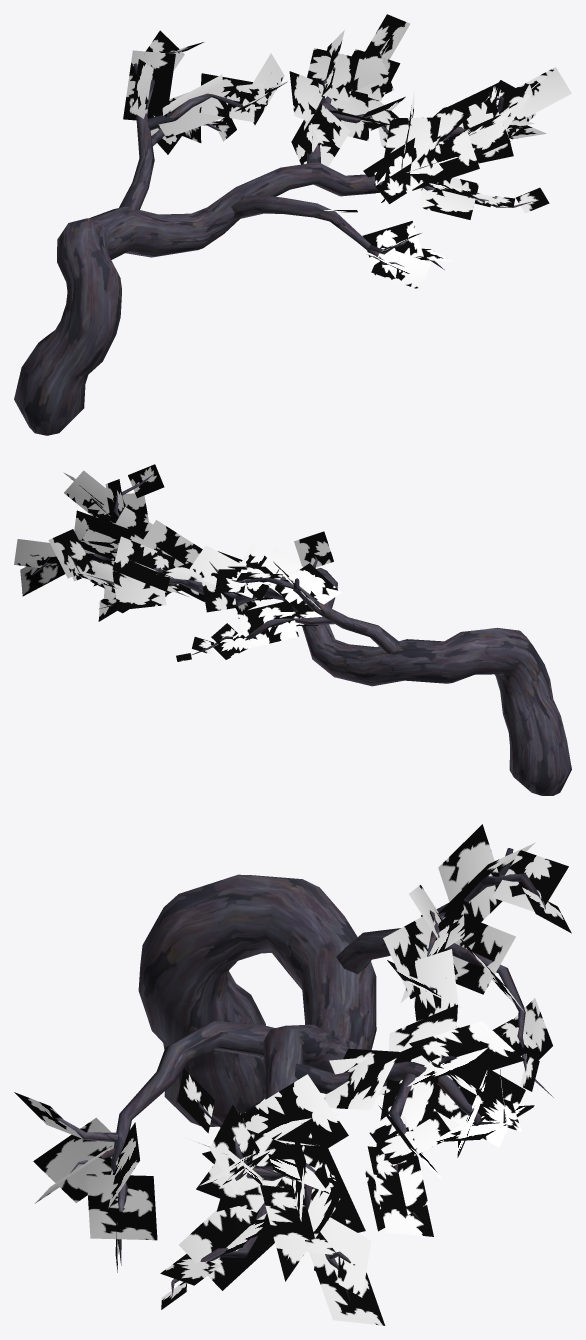
Rendered from P_TreeWindswept04.obj.
3 renders of one model, top to bottom at view 1: azimuth 30°, elevation 25°; view 2: azimuth 150°, elevation 25°; view 3: azimuth 270°, elevation 25°, orthographic. The views are drawn at different scales.
Size of the model in its own units: 18.01 by 8.19 by 9.57.
